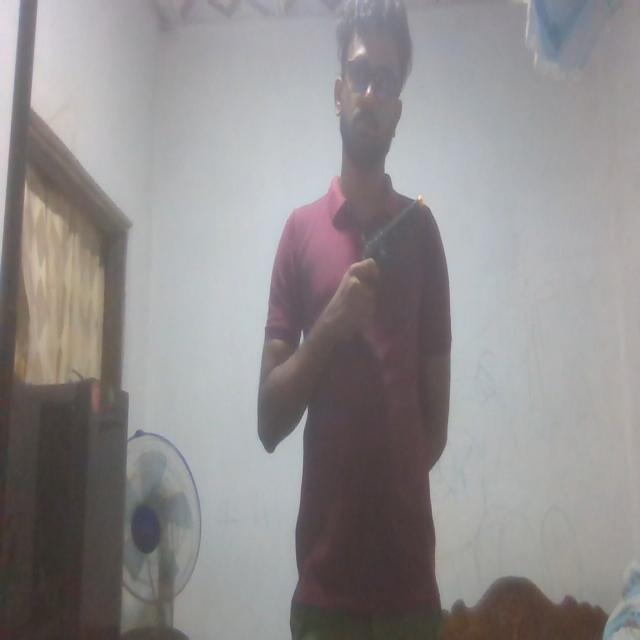Gun_Holder: (349, 192, 429, 312)
Person: (260, 0, 453, 620)
